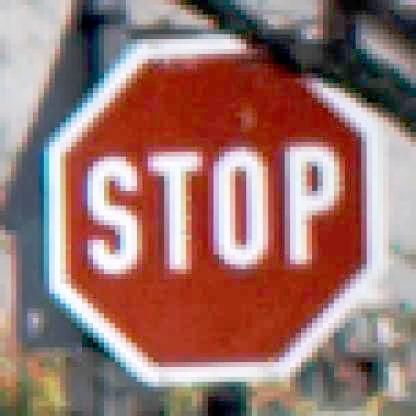Stop Sign: (47, 23, 397, 388)
